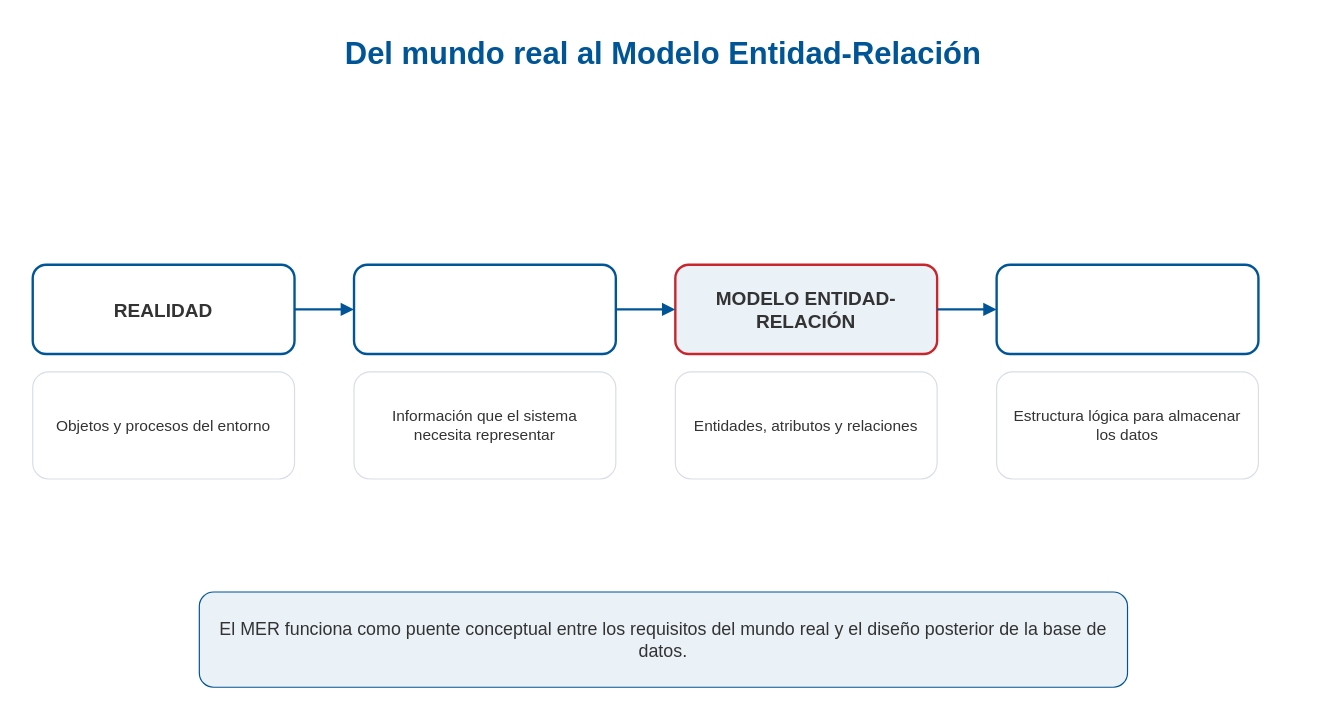
The diagram is 1326 pixels wide and 708 high, and some of its shapes have lost their labels. Here are the shapes that lost their labels. From the top down, the centre of each, then its label:
pixel 484 309: REQUISITOS
pixel 1127 309: DISEÑO DE LA BASE DE DATOS
